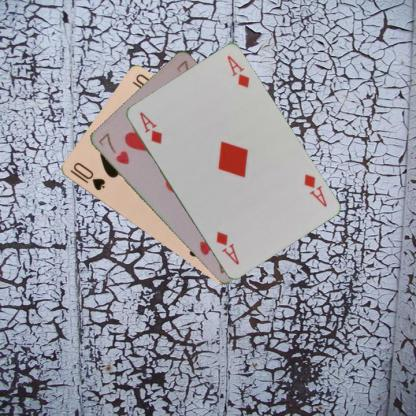10s: (67, 159, 106, 192)
7h: (95, 130, 130, 166)
Ad: (136, 108, 164, 146), (301, 171, 328, 208)
